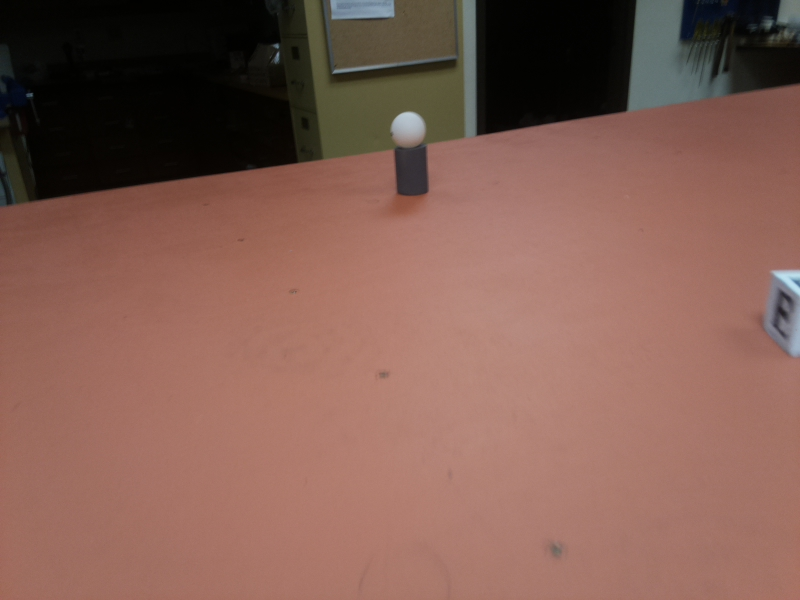blockE: (759, 267, 800, 359)
obstacle: (383, 113, 434, 197)
